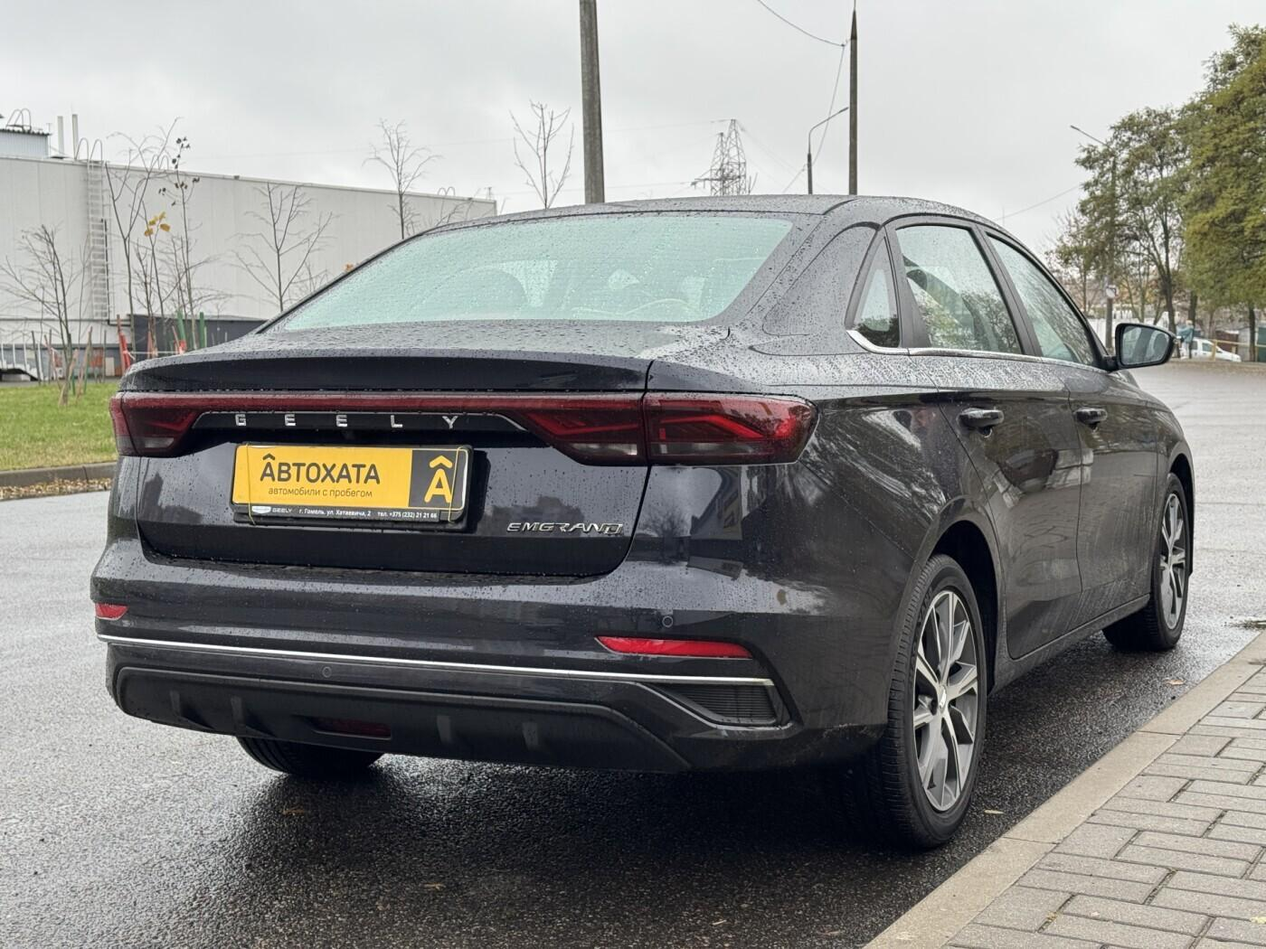Emgrand_2021: (89, 186, 1199, 870)
